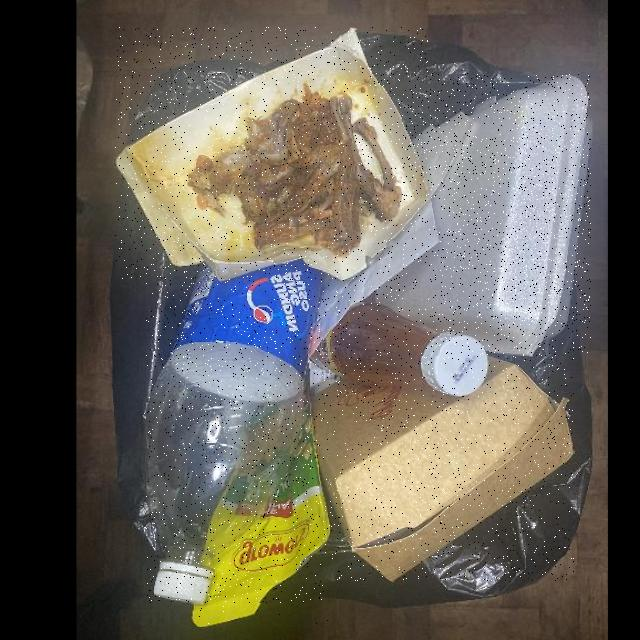biowaste: (190, 86, 402, 256)
glass: (311, 301, 489, 396)
paper: (116, 27, 429, 280), (312, 356, 574, 581), (311, 198, 440, 360)
plastic: (146, 258, 323, 603)
styrofoam: (370, 73, 591, 355)
wrapper: (191, 393, 332, 626)
